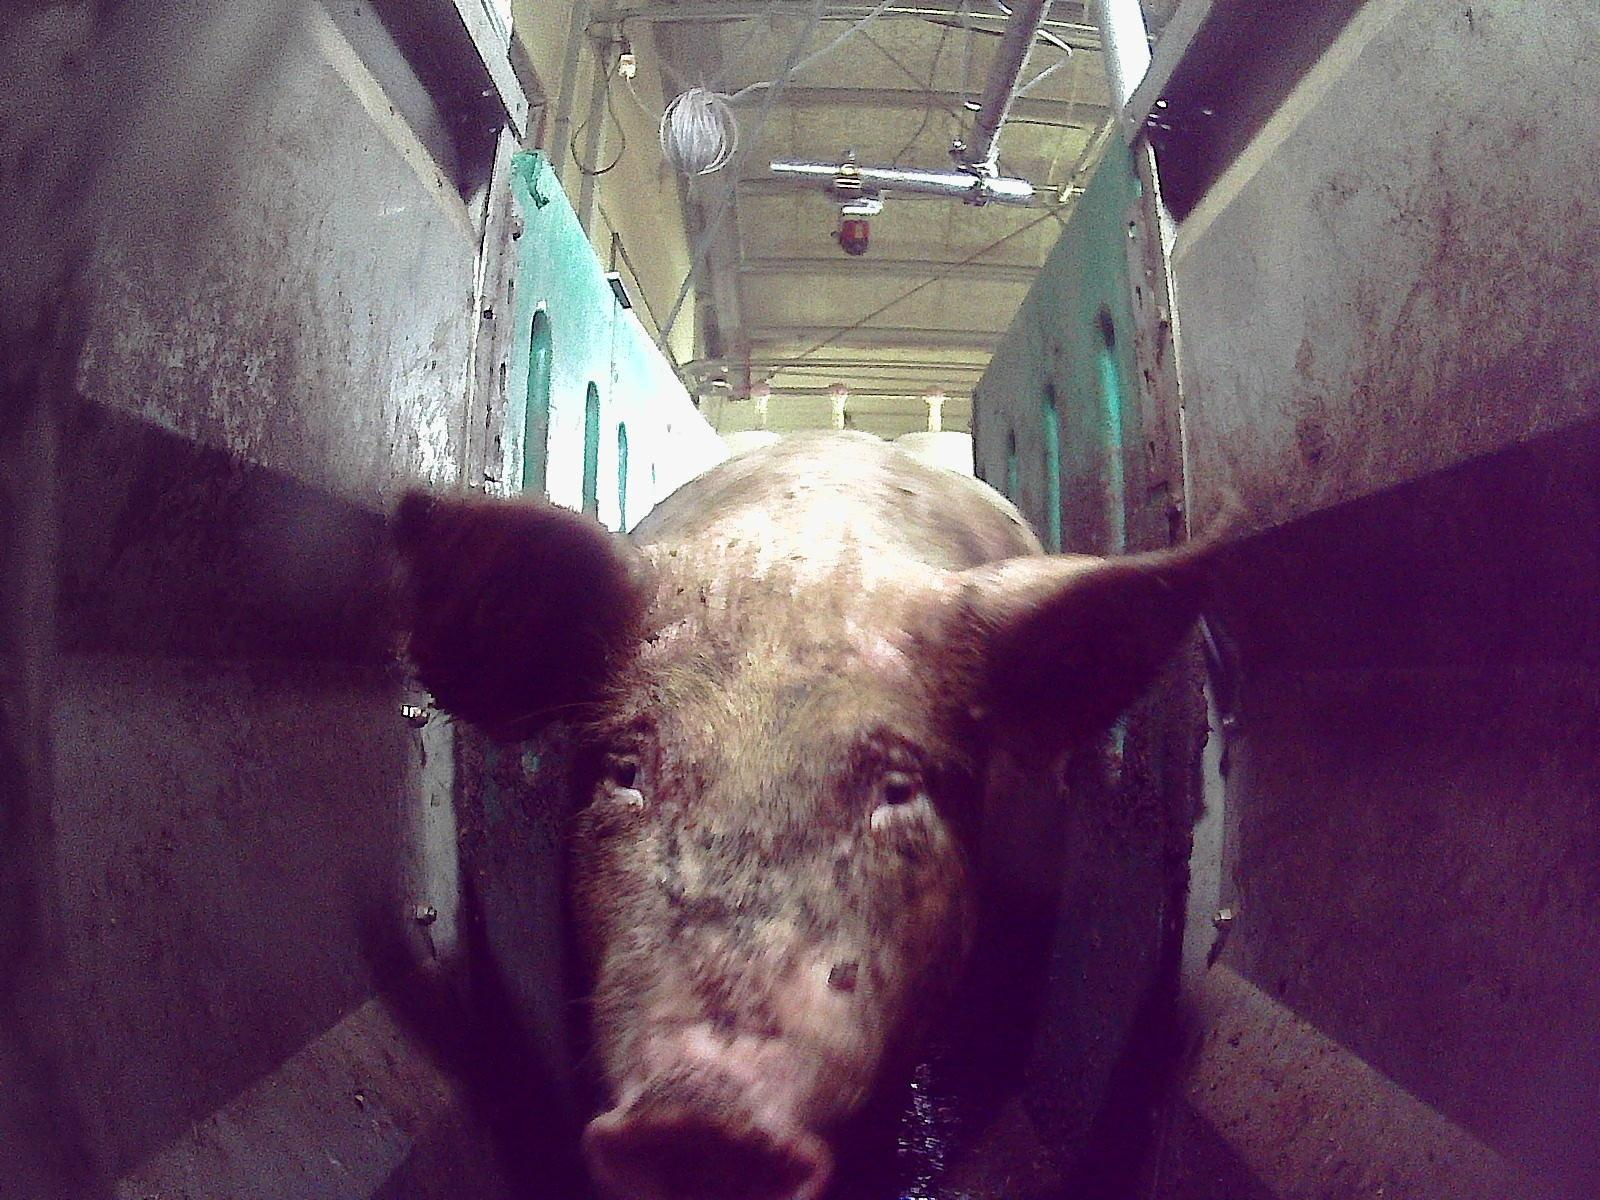Face: (564, 588, 979, 1199)
